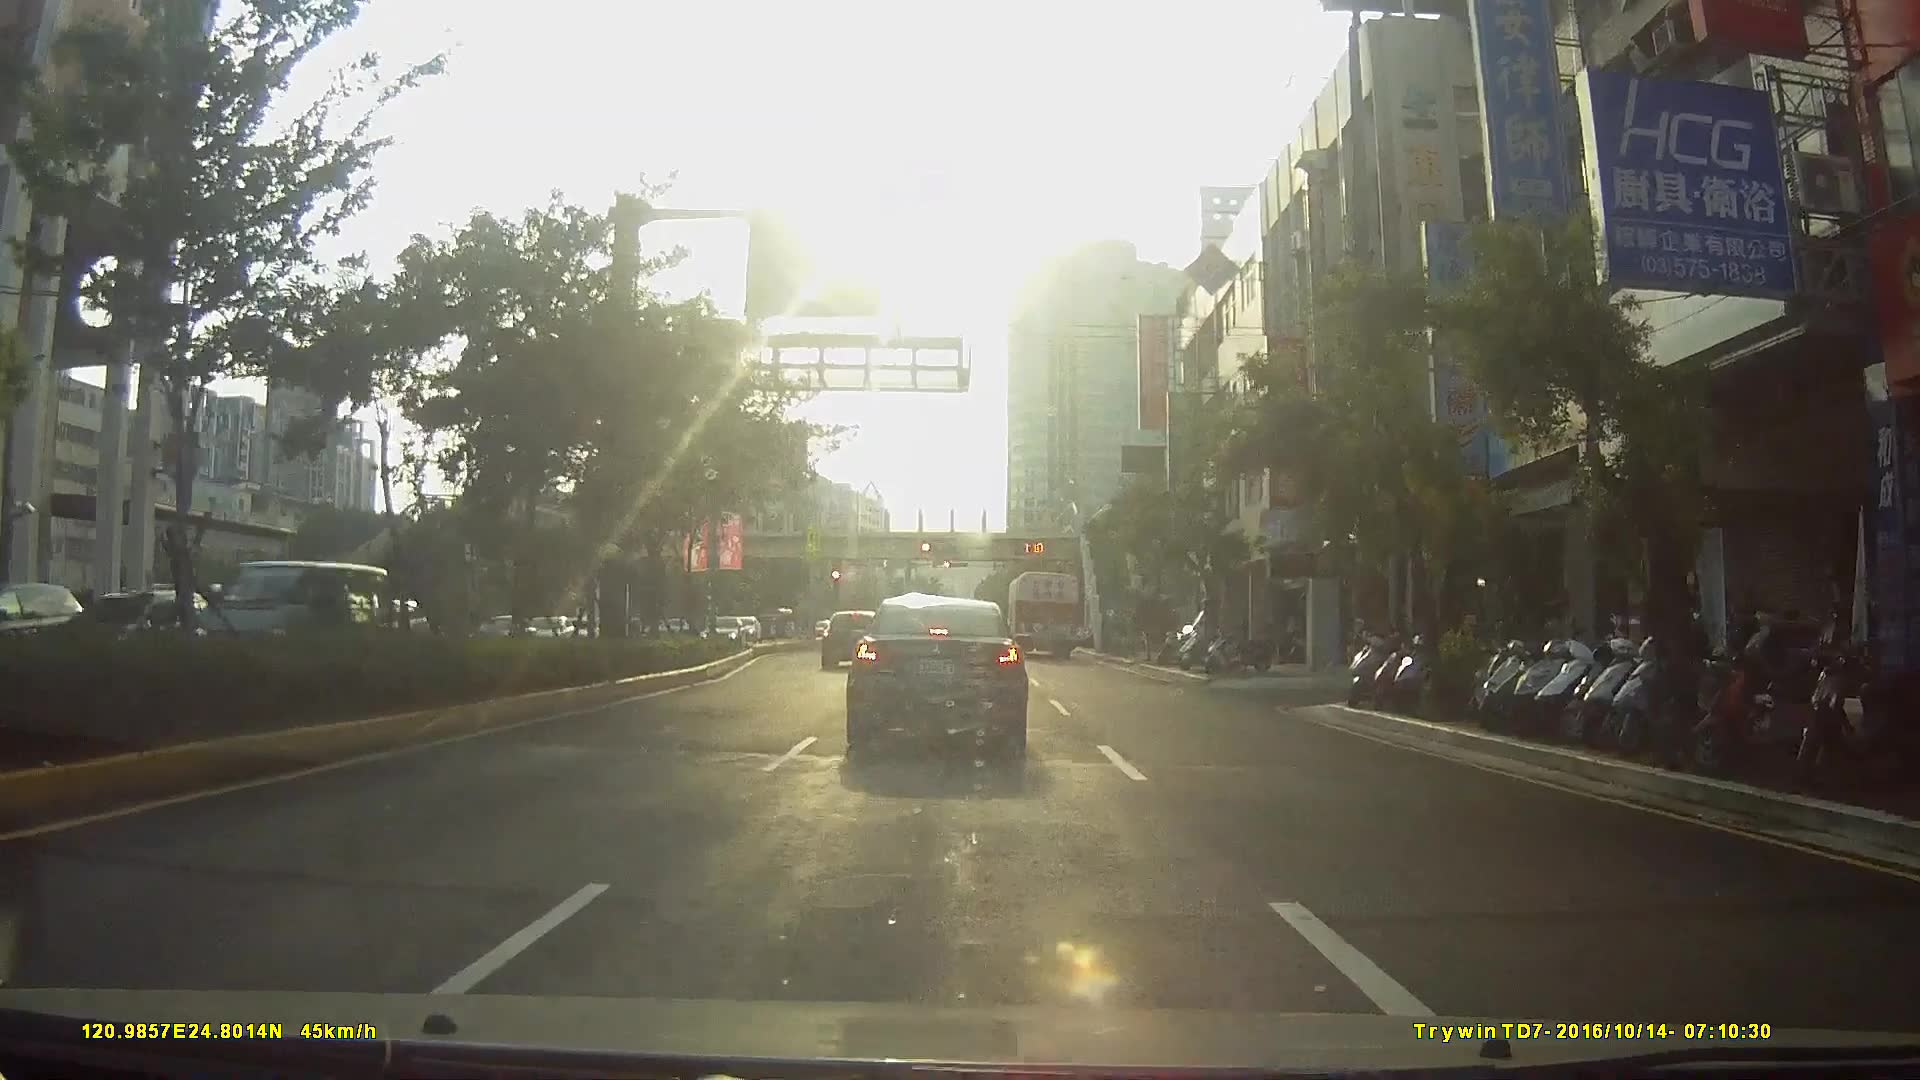vehicle: (844, 592, 1029, 756), (189, 558, 401, 675), (1005, 567, 1083, 659), (0, 579, 73, 655), (818, 609, 884, 675), (696, 615, 748, 653)
